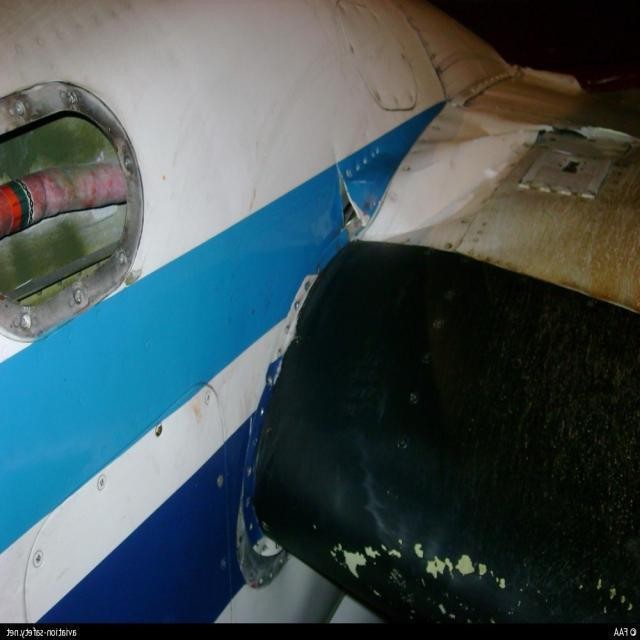crack: (335, 167, 373, 239)
